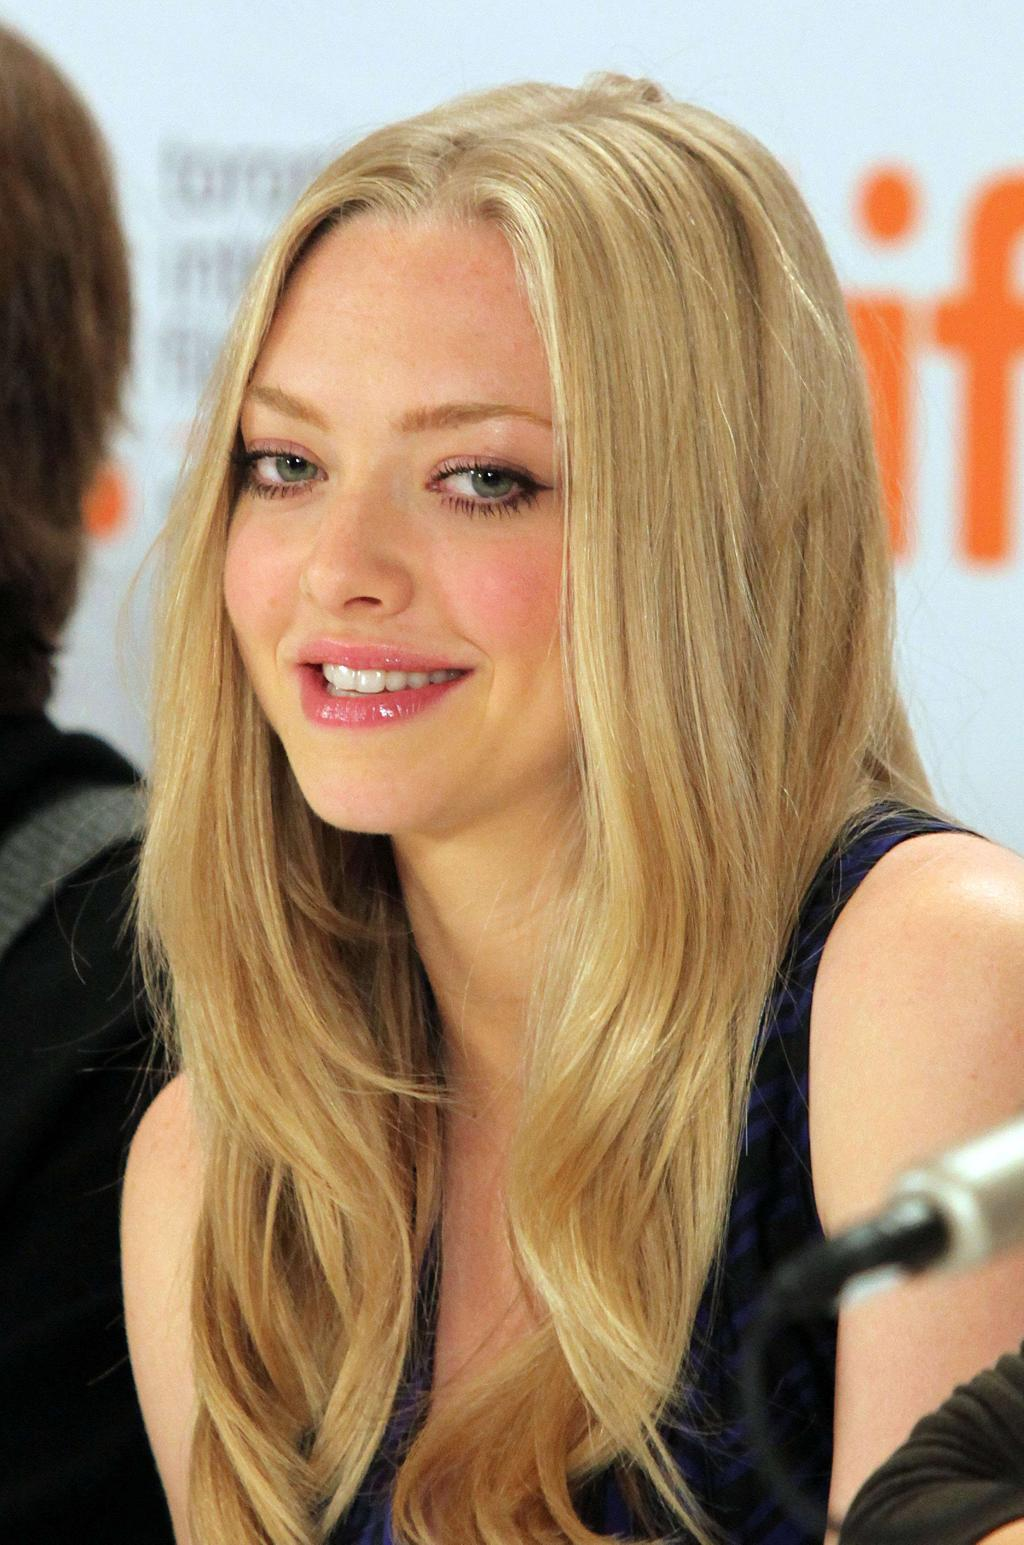face: (227, 227, 599, 834)
